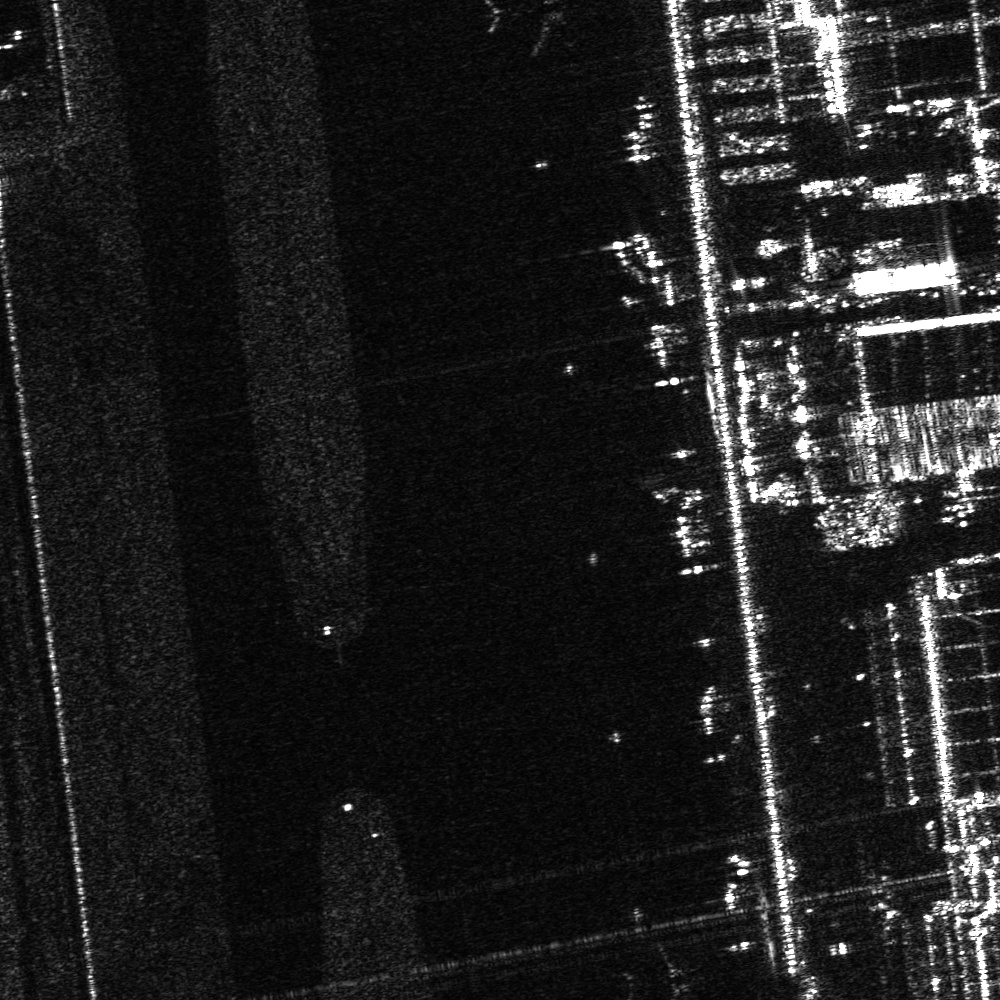Boeing787: (610, 932, 714, 999)
